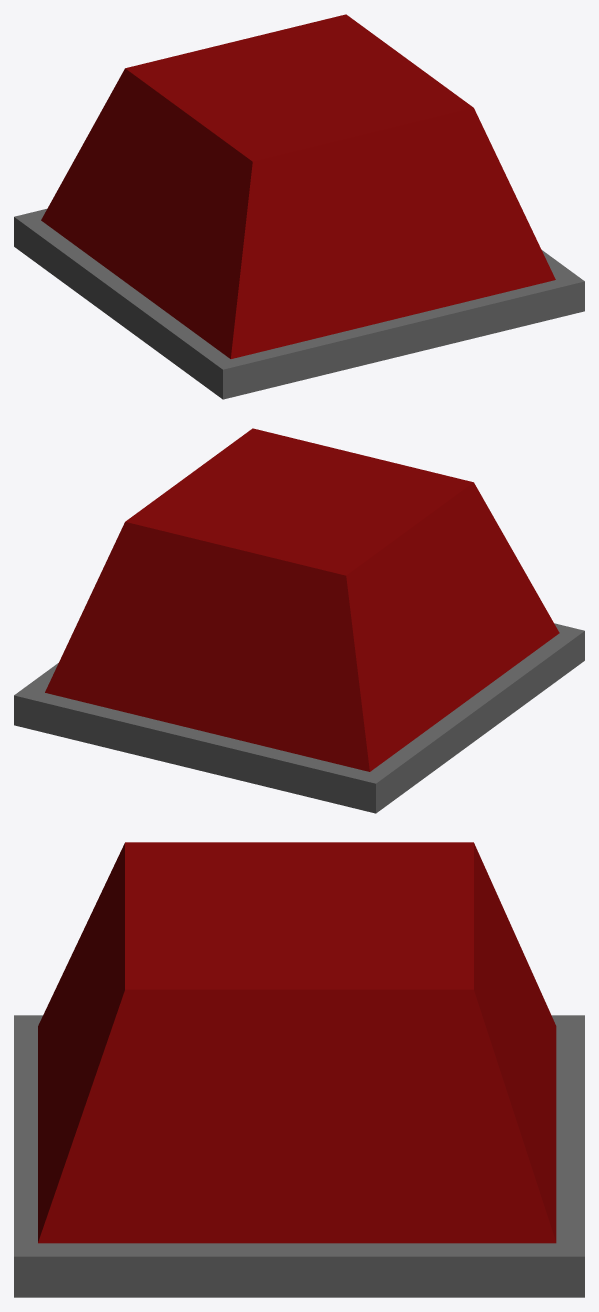
File: Platform_03.fbx
3 views of the same model, one above another, from view 1: azimuth 30°, elevation 25°; view 2: azimuth 150°, elevation 25°; view 3: azimuth 270°, elevation 25° (orthographic). The views are drawn at different scales.
Visible parts, largest first — view 1: Platfrom03; view 2: Platfrom03; view 3: Platfrom03.
Boxes of the visible parts, x1,y1,x2,y2 form: Platfrom03: [14, 14, 584, 399]; Platfrom03: [14, 428, 584, 813]; Platfrom03: [14, 842, 584, 1297].
Size of the model in its own units: 8.7 by 4.38 by 8.7.
